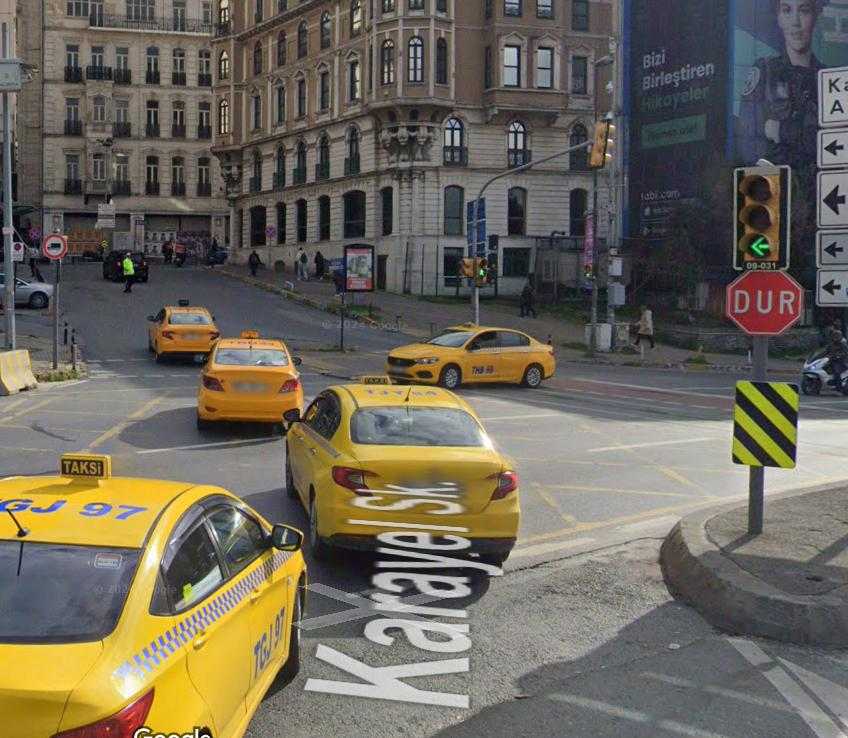greenlight: (730, 162, 792, 266), (478, 255, 489, 284)
stop: (726, 267, 804, 334)
